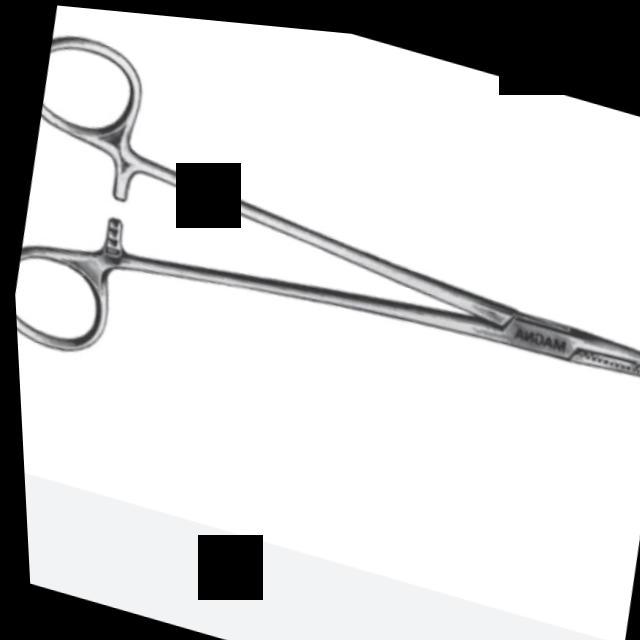Needle Holder: (1, 18, 640, 507)
